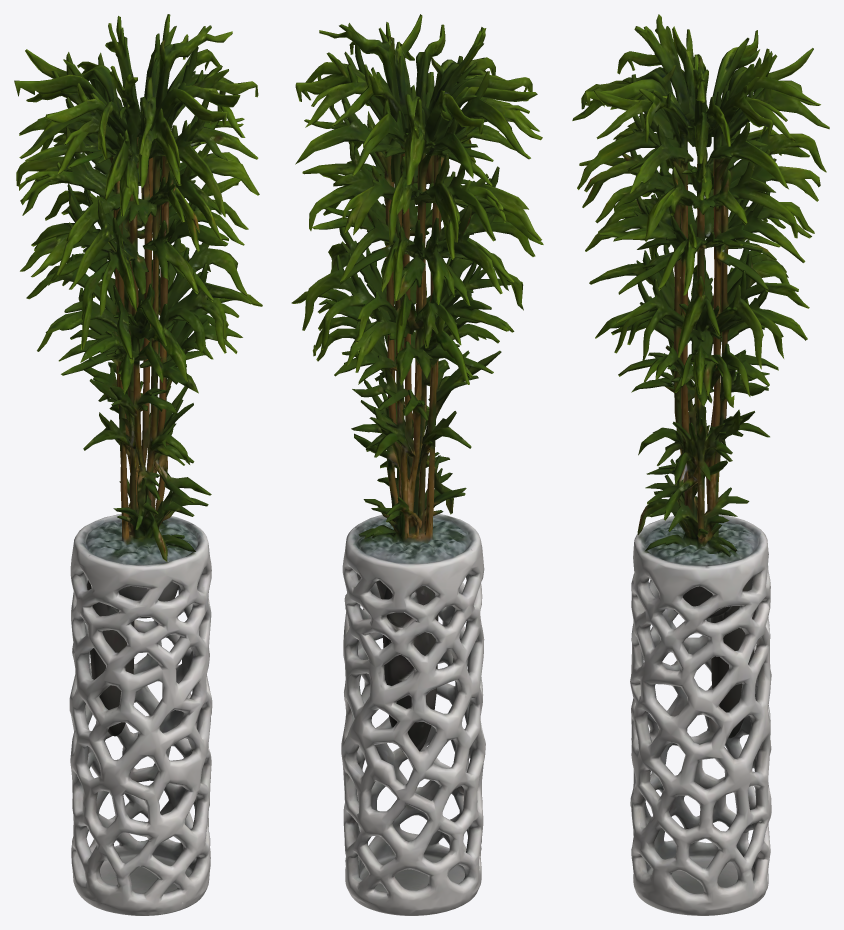
File: plant-vegetation-2.glb
3 views of the same model, side by side, from view 1: azimuth 30°, elevation 25°; view 2: azimuth 150°, elevation 25°; view 3: azimuth 270°, elevation 25° (orthographic).
Parts seen in each view (by area): view 1: tripo_node_3c1d3a4b-e1f2-4fb0-b9d6-43d4f4af01d2; view 2: tripo_node_3c1d3a4b-e1f2-4fb0-b9d6-43d4f4af01d2; view 3: tripo_node_3c1d3a4b-e1f2-4fb0-b9d6-43d4f4af01d2.
Boxes of the visible parts, box(x1,y1,x2,y2) form: tripo_node_3c1d3a4b-e1f2-4fb0-b9d6-43d4f4af01d2: box(14, 14, 262, 915); tripo_node_3c1d3a4b-e1f2-4fb0-b9d6-43d4f4af01d2: box(291, 14, 543, 915); tripo_node_3c1d3a4b-e1f2-4fb0-b9d6-43d4f4af01d2: box(572, 14, 829, 915).
Size of the model in its own units: 0.4746 by 1.6 by 0.4382.
1 material, 1 textured.
